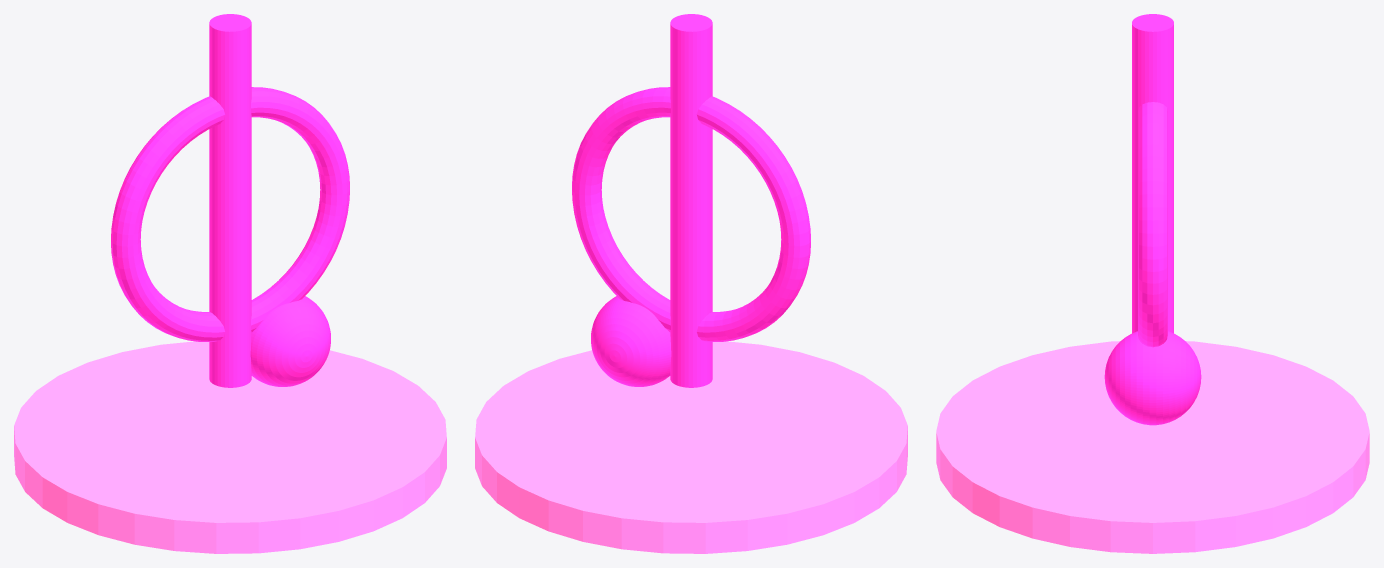
Rendered from music_treble_clef.glb.
3 renders of one model, left to right at view 1: azimuth 30°, elevation 25°; view 2: azimuth 150°, elevation 25°; view 3: azimuth 270°, elevation 25°, orthographic.
Parts seen in each view (by area): view 1: 07_11_Popular_Music_Treble_Clef_ROOT_base, 07_11_Popular_Music_Treble_Clef_part_01, 07_11_Popular_Music_Treble_Clef_part_02, 07_11_Popular_Music_Treble_Clef_part_03; view 2: 07_11_Popular_Music_Treble_Clef_ROOT_base, 07_11_Popular_Music_Treble_Clef_part_01, 07_11_Popular_Music_Treble_Clef_part_02, 07_11_Popular_Music_Treble_Clef_part_03; view 3: 07_11_Popular_Music_Treble_Clef_ROOT_base, 07_11_Popular_Music_Treble_Clef_part_01, 07_11_Popular_Music_Treble_Clef_part_03, 07_11_Popular_Music_Treble_Clef_part_02.
Boxes of the visible parts, left/top/right/bottom form: 07_11_Popular_Music_Treble_Clef_ROOT_base: left=14, top=341, right=446, bottom=553; 07_11_Popular_Music_Treble_Clef_part_01: left=111, top=87, right=349, bottom=342; 07_11_Popular_Music_Treble_Clef_part_02: left=209, top=14, right=251, bottom=387; 07_11_Popular_Music_Treble_Clef_part_03: left=250, top=296, right=330, bottom=386; 07_11_Popular_Music_Treble_Clef_ROOT_base: left=475, top=341, right=907, bottom=553; 07_11_Popular_Music_Treble_Clef_part_01: left=572, top=87, right=810, bottom=342; 07_11_Popular_Music_Treble_Clef_part_02: left=670, top=14, right=712, bottom=387; 07_11_Popular_Music_Treble_Clef_part_03: left=591, top=296, right=671, bottom=386; 07_11_Popular_Music_Treble_Clef_ROOT_base: left=936, top=341, right=1369, bottom=553; 07_11_Popular_Music_Treble_Clef_part_01: left=1138, top=102, right=1167, bottom=347; 07_11_Popular_Music_Treble_Clef_part_03: left=1104, top=331, right=1201, bottom=425; 07_11_Popular_Music_Treble_Clef_part_02: left=1132, top=14, right=1173, bottom=333.
Size of the model in its own units: 0.76 by 0.85 by 0.76.
